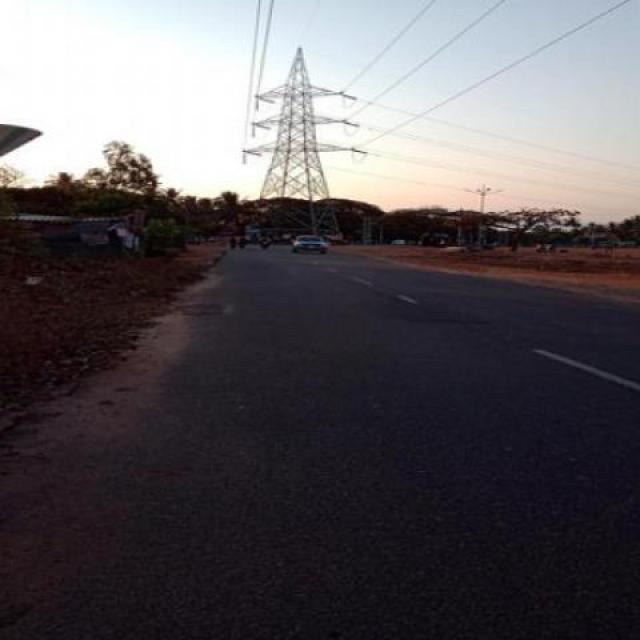Pothole: (177, 298, 233, 319)
Unmarked Bump: (227, 248, 294, 252)
